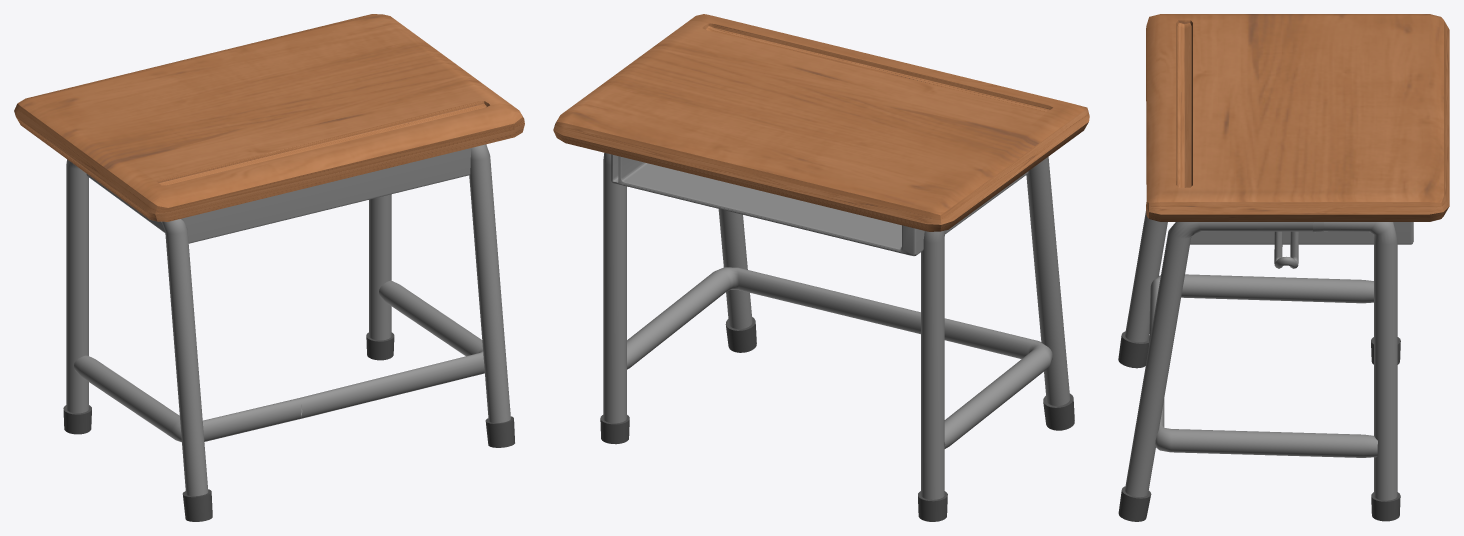
Rendered from schoolddesk 1.fbx.
3 views of the same model, side by side, from view 1: azimuth 30°, elevation 25°; view 2: azimuth 150°, elevation 25°; view 3: azimuth 270°, elevation 25° (orthographic). The views are drawn at different scales.
Visible parts, largest first — view 1: polySurface15; view 2: polySurface15; view 3: polySurface15.
Boxes of the visible parts, <box> form: polySurface15: <box>14,14,524,521</box>; polySurface15: <box>553,14,1089,521</box>; polySurface15: <box>1118,14,1449,521</box>.
Bounding box in the file's own units: 4.65 × 3.77 × 3.37.
